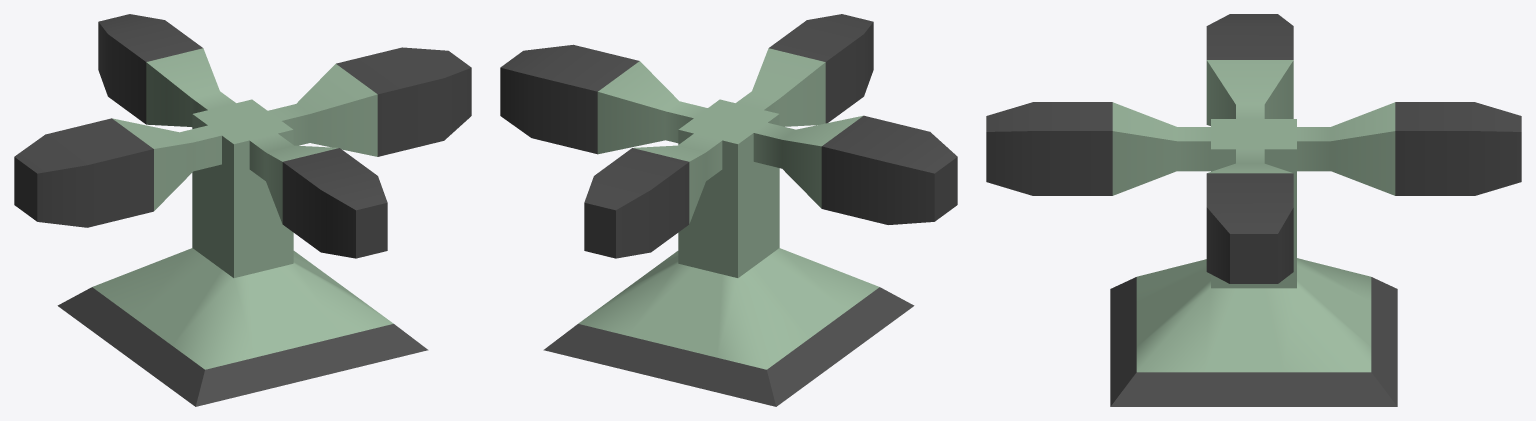
The model's file is Sprinkler_Model_SC.fbx.
The picture shows the model from 3 angles, left to right: view 1: azimuth 30°, elevation 25°; view 2: azimuth 150°, elevation 25°; view 3: azimuth 270°, elevation 25°; orthographic projection. The views are drawn at different scales.
Parts seen in each view (by area): view 1: pCube3; view 2: pCube3; view 3: pCube3.
Boxes of the visible parts, bbox=[...] form: pCube3: bbox=[14, 14, 471, 406]; pCube3: bbox=[500, 14, 957, 406]; pCube3: bbox=[986, 14, 1521, 406].
Size of the model in its own units: 0.1402 by 0.0688 by 0.1441.
